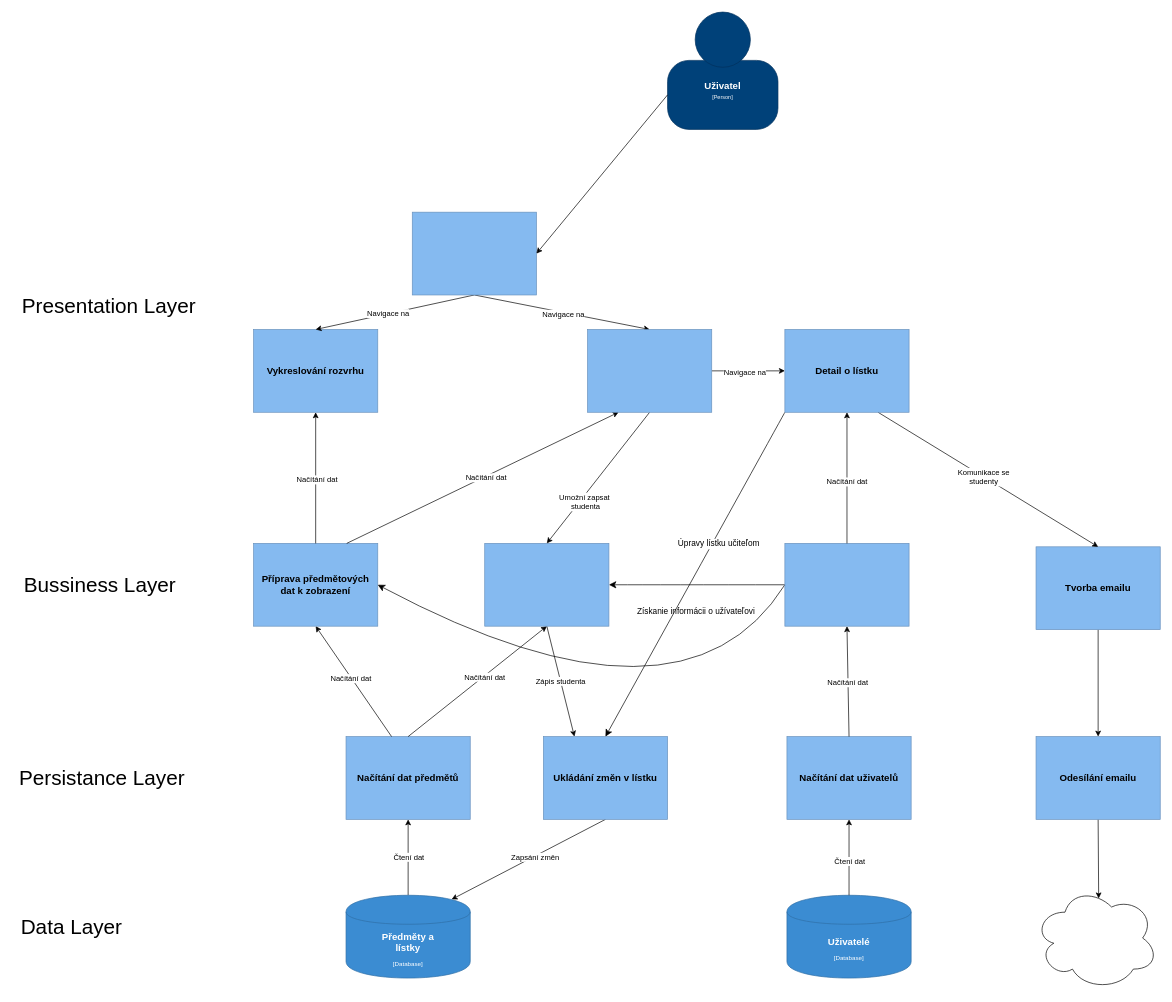
The diagram is 1172 pixels wide and 1002 high, and some of its shapes have lost their labels. The box of each missing label's shape, as (x1, y1, x2, y2) in pixels:
Mail server: (1033, 886, 1158, 990)
Navigace: (412, 211, 536, 295)
Příprava uživatelských dat k zobrazení: (784, 543, 909, 626)
Zapsat studenta na lístek: (484, 543, 609, 626)
Zobrazení lístků: (587, 329, 712, 412)
